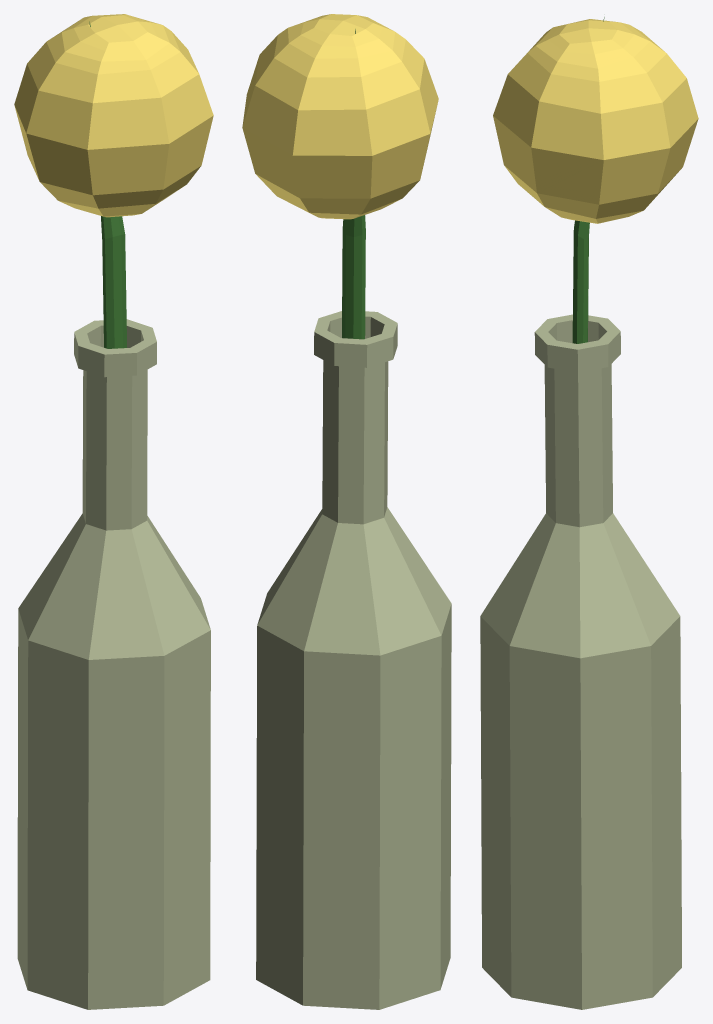
Rendered from Flower_62.fbx.
3 views of the same model, side by side, from view 1: azimuth 30°, elevation 25°; view 2: azimuth 150°, elevation 25°; view 3: azimuth 270°, elevation 25° (orthographic).
Visible parts, largest first — view 1: Flower_62; view 2: Flower_62; view 3: Flower_62.
Part boxes in pixels (x1,y1,x2,y2): Flower_62: (14,14,213,1009); Flower_62: (242,14,451,1009); Flower_62: (480,17,698,1009).
Size of the model in its own units: 17.58 by 18.28 by 87.54.
